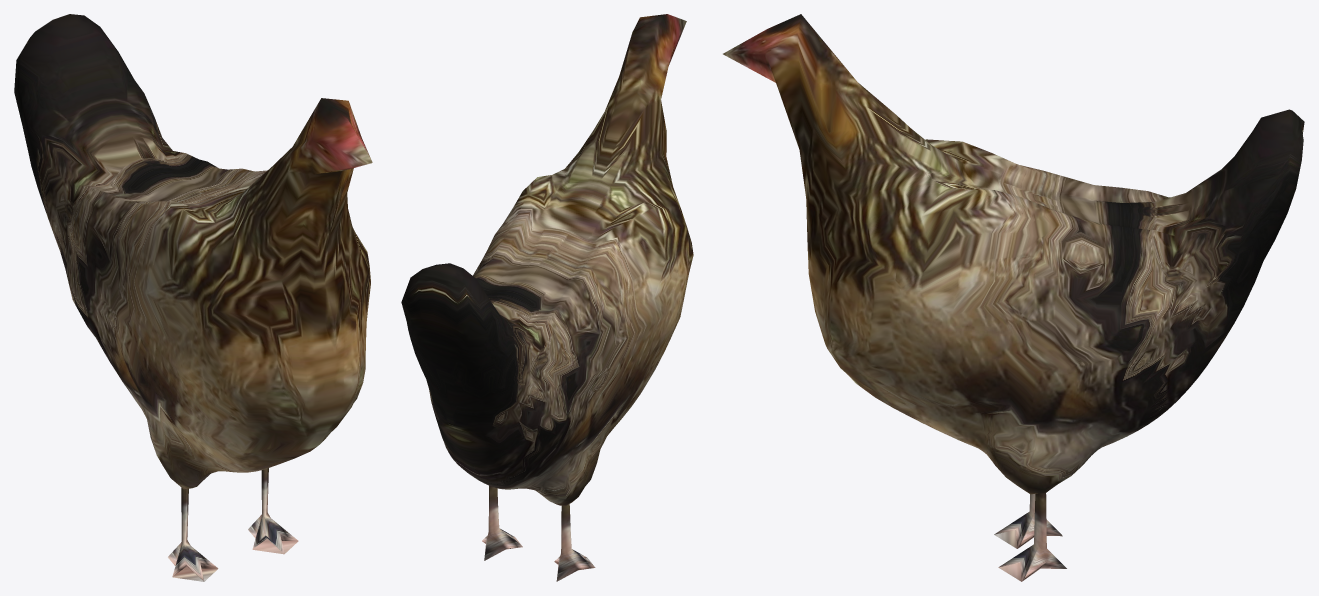
File: simpleBrownChicken.FBX
3 views of the same model, side by side, from view 1: azimuth 30°, elevation 25°; view 2: azimuth 150°, elevation 25°; view 3: azimuth 270°, elevation 25° (orthographic). The views are drawn at different scales.
Parts seen in each view (by area): view 1: objchickenobject_0; view 2: objchickenobject_0; view 3: objchickenobject_0.
Part boxes in pixels (left/top/right/bottom): objchickenobject_0: left=14, top=14, right=372, bottom=581; objchickenobject_0: left=401, top=14, right=693, bottom=581; objchickenobject_0: left=723, top=14, right=1304, bottom=581.
Bounding box in the file's own units: 72.93 × 204 × 203.
1 material, 1 textured.
